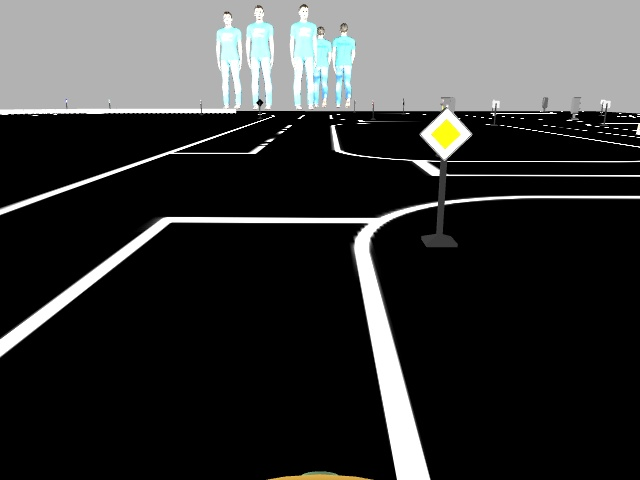Priority: (415, 107, 474, 162)
